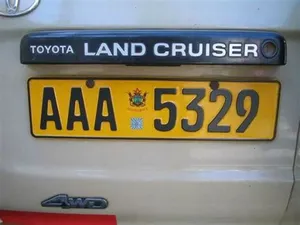number_plate: (23, 71, 285, 147)
